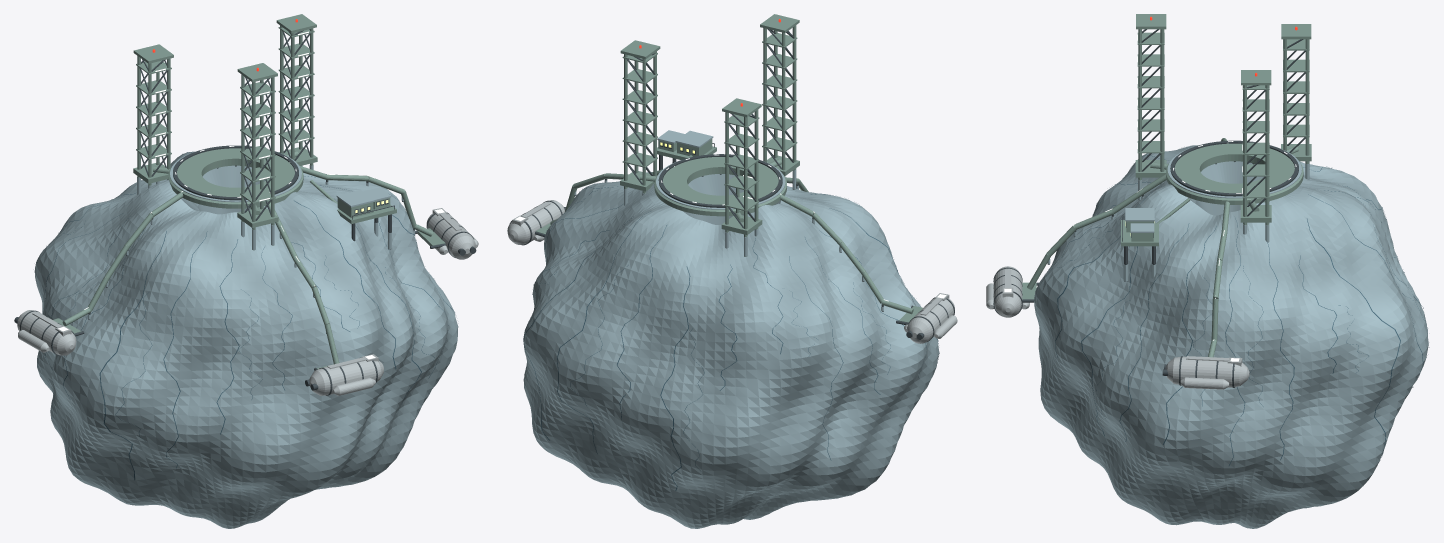
The model's file is wellhead.glb.
3 views of the same model, side by side, from view 1: azimuth 30°, elevation 25°; view 2: azimuth 150°, elevation 25°; view 3: azimuth 270°, elevation 25° (orthographic). The views are drawn at different scales.
Parts seen in each view (by area): view 1: Moonlet | Frosted ice, Rigs | Faded green rig paint, Pipework | Faded green rig paint, Rigs | Structural steel, Moonlet | Deep ice fractures, Tanker_03 | Tanker alloy, Tanker_02 | Tanker alloy, Tanker_01 | Tanker alloy, Habitat | Faded green rig paint, Rigs | Frosted ice, Habitat | Frosted ice; view 2: Moonlet | Frosted ice, Rigs | Faded green rig paint, Rigs | Structural steel, Moonlet | Deep ice fractures, Pipework | Faded green rig paint, Tanker_02 | Tanker alloy, Tanker_01 | Tanker alloy, Rigs | Frosted ice, Habitat | Faded green rig paint, Habitat | Frosted ice; view 3: Moonlet | Frosted ice, Rigs | Faded green rig paint, Pipework | Faded green rig paint, Moonlet | Deep ice fractures, Rigs | Structural steel, Tanker_01 | Tanker alloy, Tanker_03 | Tanker alloy, Habitat | Frosted ice, Habitat | Faded green rig paint, Rigs | Frosted ice.
Boxes of the visible parts, left/top/right/bottom form: Moonlet | Frosted ice: left=34, top=151, right=458, bottom=528; Rigs | Faded green rig paint: left=133, top=14, right=317, bottom=250; Pipework | Faded green rig paint: left=53, top=151, right=445, bottom=369; Rigs | Structural steel: left=139, top=29, right=310, bottom=220; Moonlet | Deep ice fractures: left=36, top=152, right=455, bottom=480; Tanker_03 | Tanker alloy: left=309, top=354, right=383, bottom=395; Tanker_02 | Tanker alloy: left=17, top=310, right=76, bottom=355; Tanker_01 | Tanker alloy: left=426, top=208, right=478, bottom=259; Habitat | Faded green rig paint: left=337, top=198, right=396, bottom=223; Rigs | Frosted ice: left=137, top=152, right=313, bottom=249; Habitat | Frosted ice: left=336, top=187, right=391, bottom=249; Moonlet | Frosted ice: left=523, top=172, right=939, bottom=528; Rigs | Faded green rig paint: left=620, top=14, right=799, bottom=256; Rigs | Structural steel: left=626, top=29, right=794, bottom=228; Moonlet | Deep ice fractures: left=523, top=186, right=939, bottom=490; Pipework | Faded green rig paint: left=536, top=155, right=923, bottom=322; Tanker_02 | Tanker alloy: left=904, top=293, right=957, bottom=343; Tanker_01 | Tanker alloy: left=507, top=200, right=564, bottom=244; Rigs | Frosted ice: left=624, top=161, right=796, bottom=256; Habitat | Faded green rig paint: left=657, top=139, right=716, bottom=159; Habitat | Frosted ice: left=657, top=130, right=713, bottom=163; Moonlet | Frosted ice: left=1034, top=145, right=1428, bottom=528; Rigs | Faded green rig paint: left=1135, top=14, right=1311, bottom=225; Pipework | Faded green rig paint: left=1022, top=138, right=1298, bottom=357; Moonlet | Deep ice fractures: left=1046, top=149, right=1429, bottom=465; Rigs | Structural steel: left=1141, top=29, right=1305, bottom=216; Tanker_01 | Tanker alloy: left=1165, top=356, right=1249, bottom=389; Tanker_03 | Tanker alloy: left=986, top=266, right=1029, bottom=317; Habitat | Frosted ice: left=1123, top=208, right=1156, bottom=281; Habitat | Faded green rig paint: left=1121, top=220, right=1158, bottom=246; Rigs | Frosted ice: left=1138, top=147, right=1309, bottom=242.
Size of the model in its own units: 1266 by 1282 by 1076.
